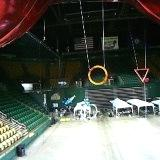Orange_Circle_GShape: (89, 65, 109, 85)
Orange_Triangle_Gshape: (135, 68, 150, 83)
